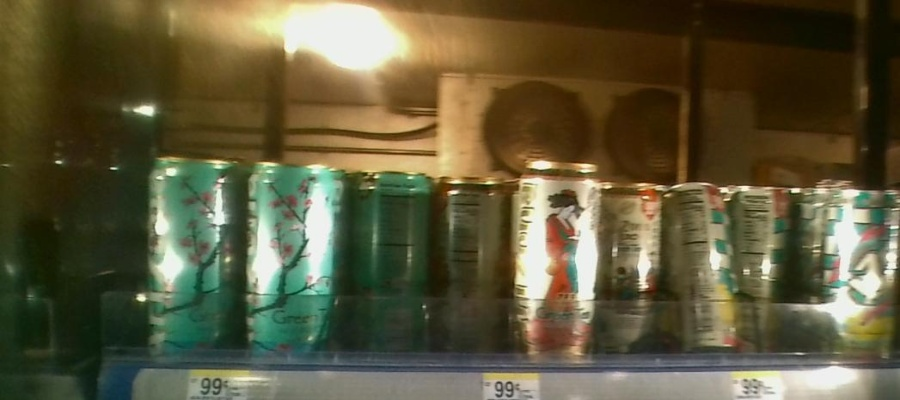bottle: (243, 134, 348, 363), (143, 135, 240, 368), (510, 160, 602, 369), (812, 180, 900, 363), (431, 159, 507, 363), (352, 163, 431, 356), (665, 174, 737, 369), (602, 163, 660, 357), (740, 180, 795, 365)
